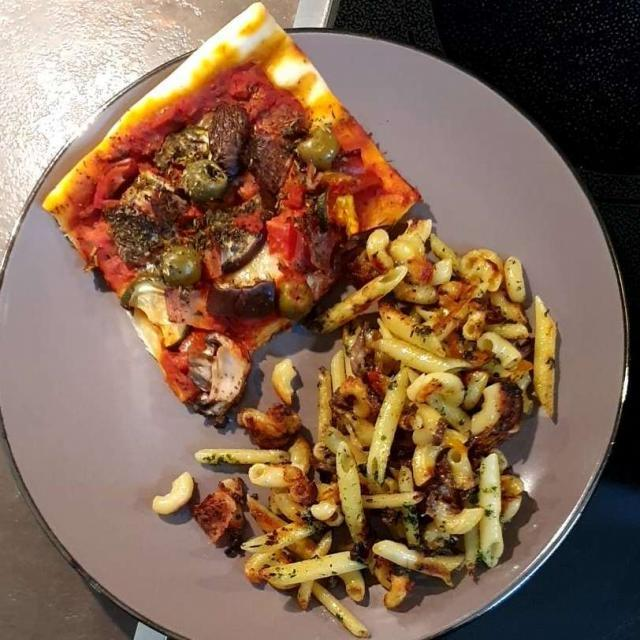pasta: (164, 214, 564, 605)
pizza: (58, 28, 404, 398)
